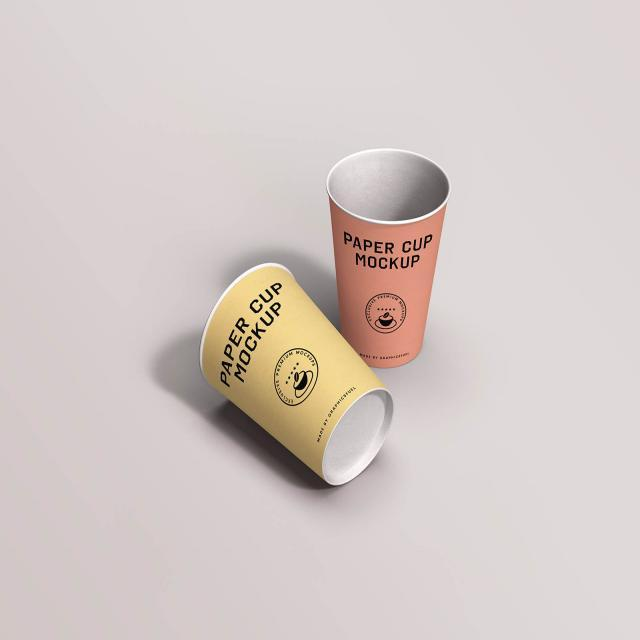trash: (197, 262, 396, 490), (326, 144, 450, 372)
